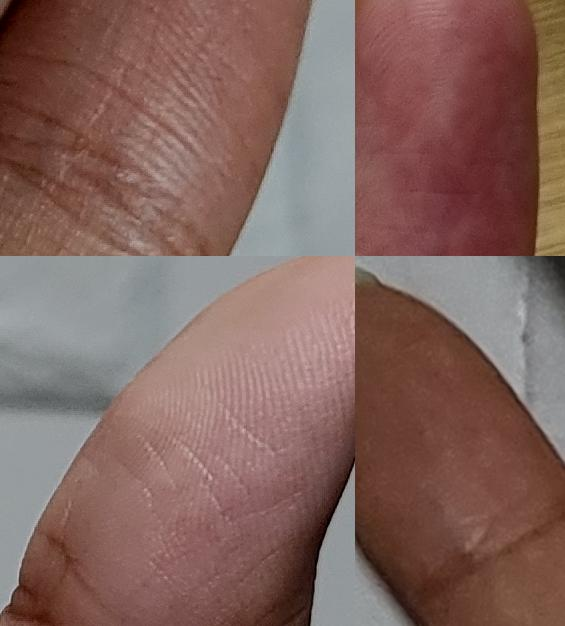Fingerprints: (17, 256, 355, 626), (0, 0, 314, 256), (355, 284, 565, 603), (355, 0, 540, 256)
